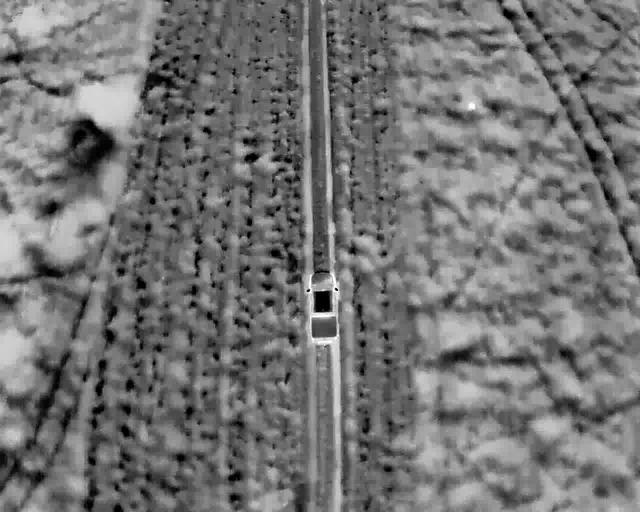car: (306, 272, 339, 343)
